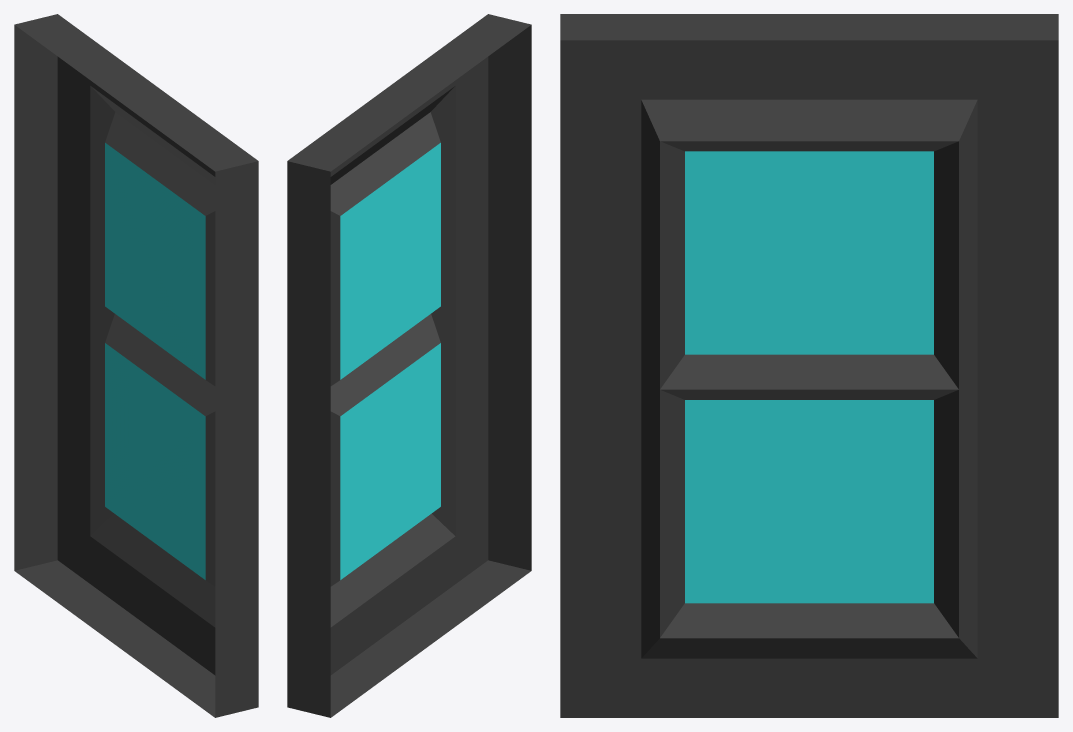
The model's file is WindowUp.FBX.
The picture shows the model from 3 angles, left to right: view 1: azimuth 30°, elevation 25°; view 2: azimuth 150°, elevation 25°; view 3: azimuth 270°, elevation 25°; orthographic projection. The views are drawn at different scales.
Visible parts, largest first — view 1: windowUp; view 2: windowUp; view 3: windowUp.
Boxes of the visible parts, x1,y1,x2,y2 form: windowUp: (14,14,258,717); windowUp: (287,14,531,717); windowUp: (560,14,1058,717).
Size of the model in its own units: 0.35 by 3 by 2.
